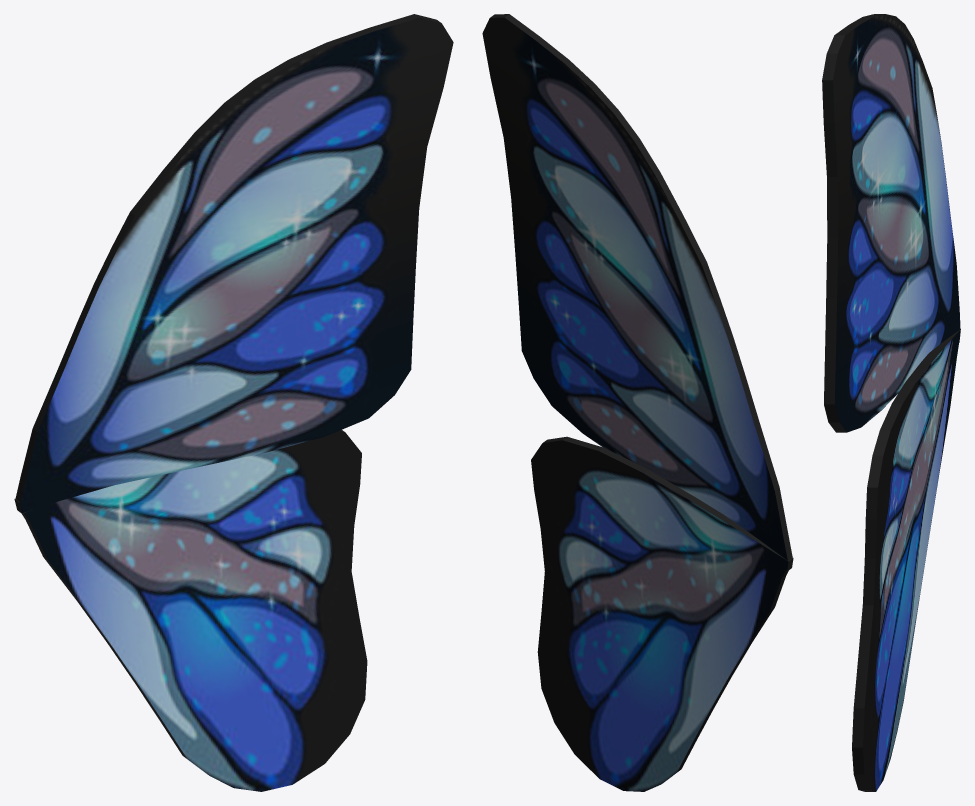
File: wing.fbx
3 renders of one model, left to right at view 1: azimuth 30°, elevation 25°; view 2: azimuth 150°, elevation 25°; view 3: azimuth 270°, elevation 25°, orthographic. The views are drawn at different scales.
Visible parts, largest first — view 1: wing; view 2: wing; view 3: wing.
Part boxes in pixels (<box>): wing: <box>14,14,453,791</box>; wing: <box>482,14,793,791</box>; wing: <box>822,14,960,791</box>.
Bounding box in the file's own units: 5.43 × 10.4 × 1.6.
1 material, 1 textured.
